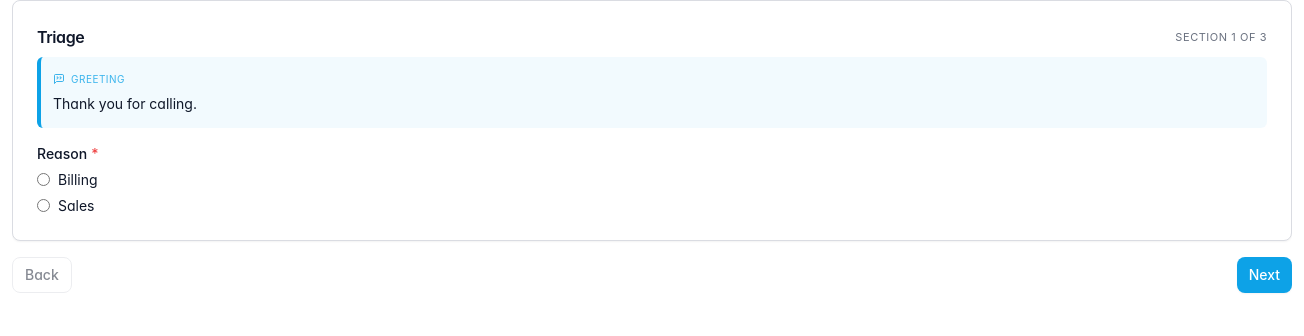
FormRunner — branching + validation › renders a script_block as presentational, validates required, and jumps via logic
Expected: the element showing "Greeting Thank you for calling." is shown, [37,57,1267,128]
// Required validation: clicking Next without picking Reason shows error.
Click the button "Next": coordinates (1264, 275) [1237,257,1292,293]
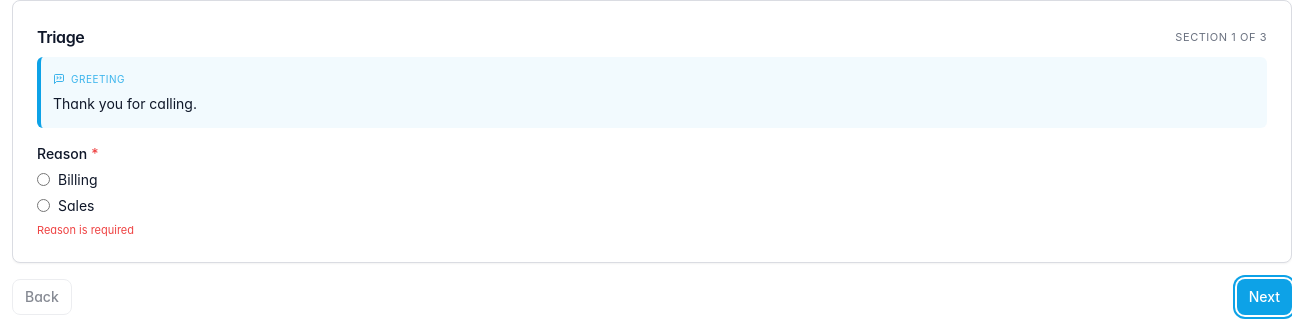
Expected: the text "Reason is required" is shown, [37,223,134,237]
// Pick Billing → logic jump_to_section advances to "Billing".
Click the radio button labelled "Billing": coordinates (44, 180) [37,173,50,186]
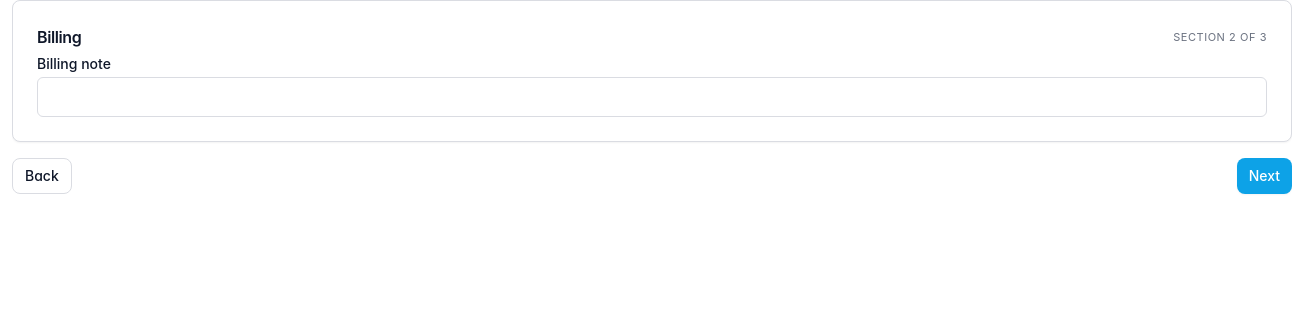
Expected: the text "Section 2 of 3" is shown, [1173,29,1267,45]
